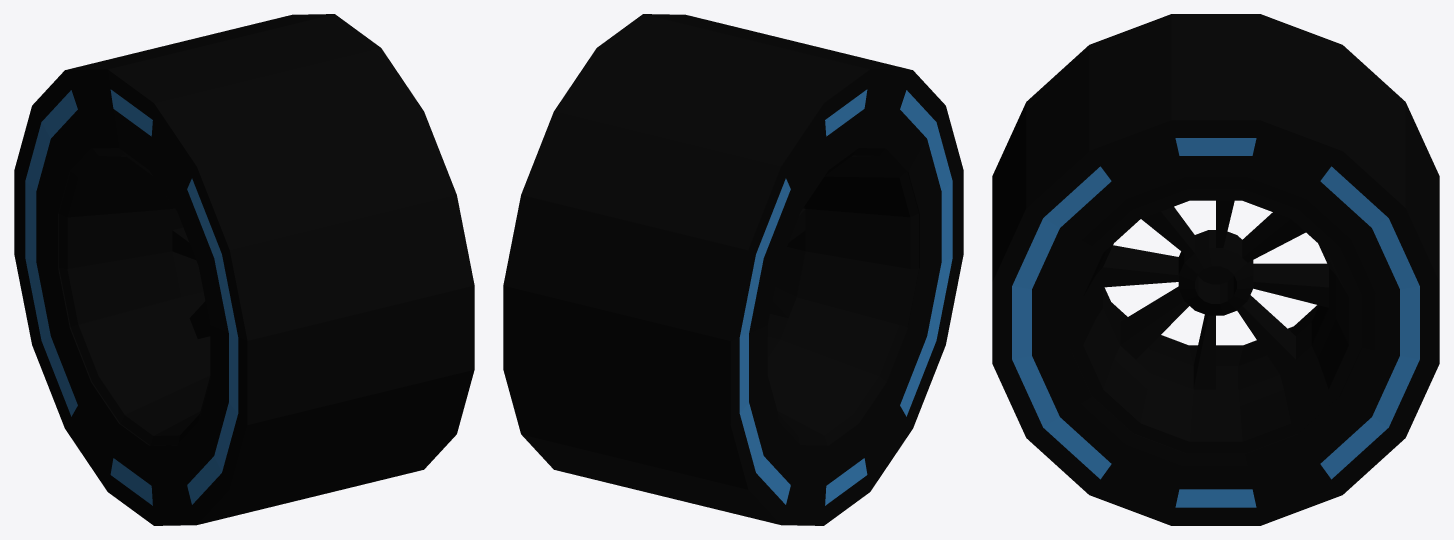
The model's file is rear-tyre.glb.
The picture shows the model from 3 angles, left to right: view 1: azimuth 30°, elevation 25°; view 2: azimuth 150°, elevation 25°; view 3: azimuth 270°, elevation 25°; orthographic projection. The views are drawn at different scales.
Parts seen in each view (by area): view 1: Tyre; view 2: Tyre; view 3: Tyre.
Boxes of the visible parts, bbox=[...] form: Tyre: bbox=[14, 14, 474, 525]; Tyre: bbox=[503, 14, 963, 525]; Tyre: bbox=[992, 14, 1439, 525].
Size of the model in its own units: 0.405 by 0.72 by 0.72.
